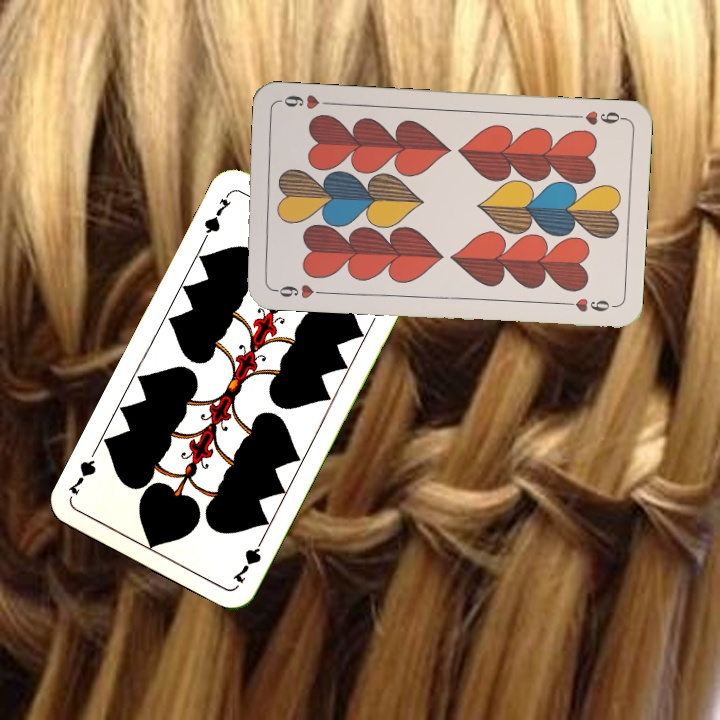G7: (228, 532, 268, 586), (199, 188, 234, 243)
H9: (567, 106, 626, 127), (268, 280, 327, 301)
